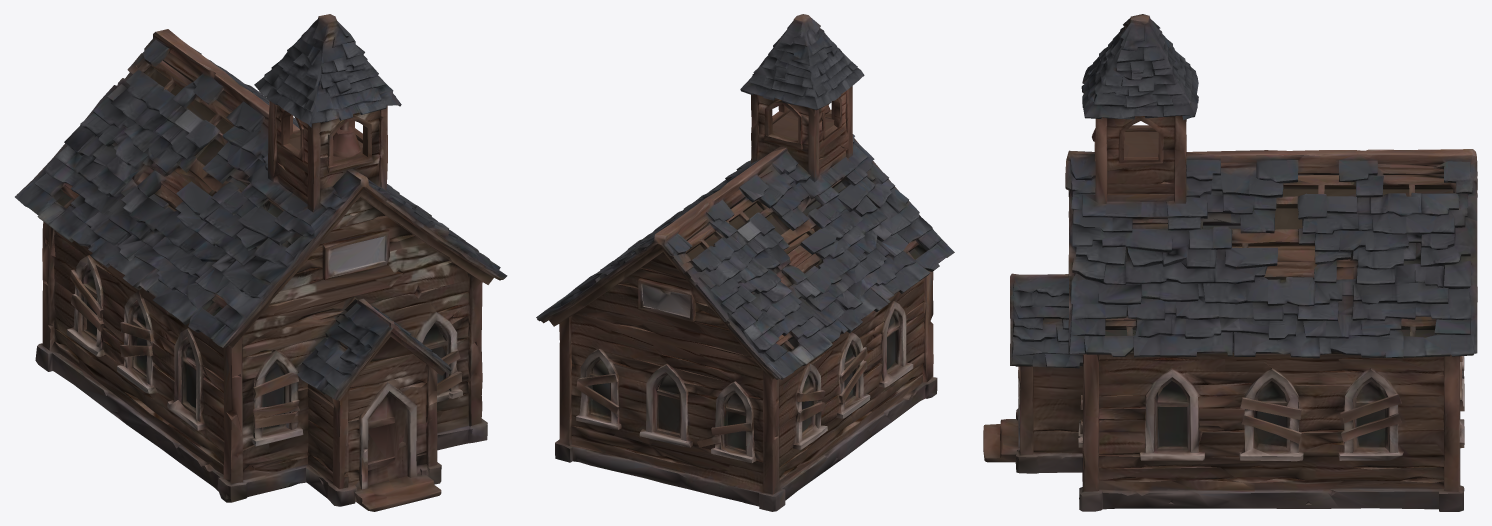
The model's file is church_c_idle.glb.
3 renders of one model, left to right at view 1: azimuth 30°, elevation 25°; view 2: azimuth 150°, elevation 25°; view 3: azimuth 270°, elevation 25°, orthographic. The views are drawn at different scales.
Visible parts, largest first — view 1: tripo_node_107326a3-60f8-4cdf-a2af-a07d23f60489; view 2: tripo_node_107326a3-60f8-4cdf-a2af-a07d23f60489; view 3: tripo_node_107326a3-60f8-4cdf-a2af-a07d23f60489.
Boxes of the visible parts, x1,y1,x2,y2 form: tripo_node_107326a3-60f8-4cdf-a2af-a07d23f60489: (15,14,507,511); tripo_node_107326a3-60f8-4cdf-a2af-a07d23f60489: (536,14,954,511); tripo_node_107326a3-60f8-4cdf-a2af-a07d23f60489: (983,14,1477,511).
Size of the model in its own units: 10 by 13.98 by 14.48.
Materials: 1 (1 with a texture image).
